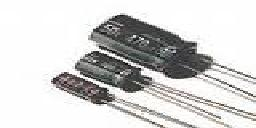Electrolytic-Capacitor: (89, 12, 221, 81), (53, 69, 170, 128), (74, 51, 160, 94)
